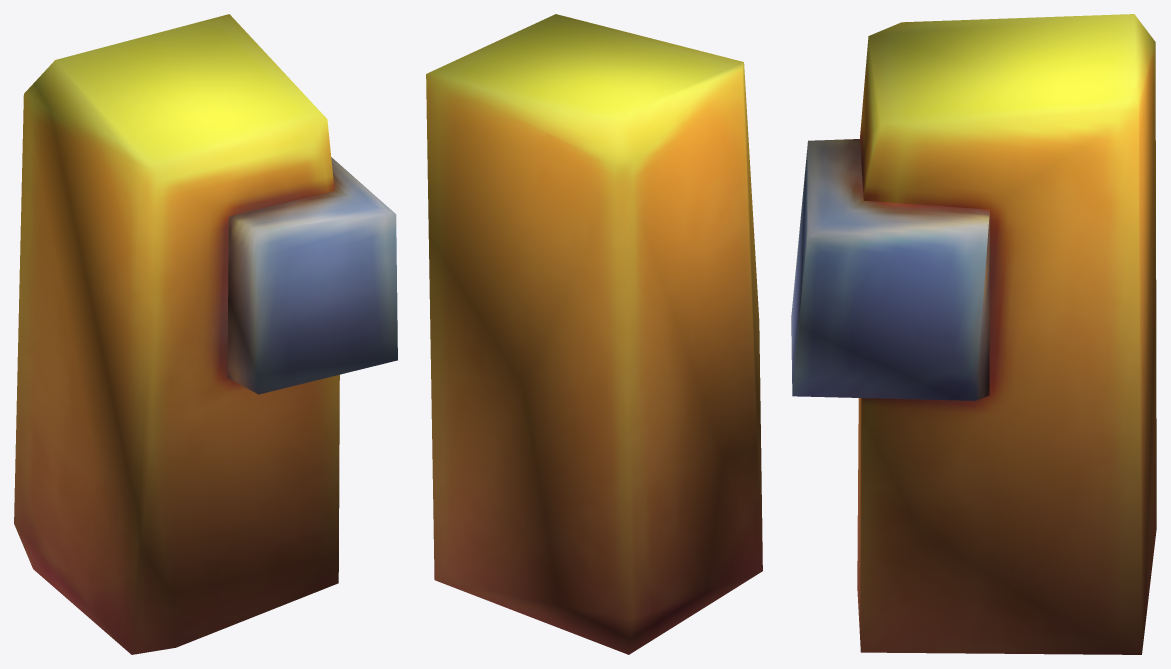
The model's file is SM_Gem_Topaz_Piece_001.fbx.
3 views of the same model, side by side, from view 1: azimuth 30°, elevation 25°; view 2: azimuth 150°, elevation 25°; view 3: azimuth 270°, elevation 25° (orthographic). The views are drawn at different scales.
Visible parts, largest first — view 1: SM_Gem_Topaz_Piece_001; view 2: SM_Gem_Topaz_Piece_001; view 3: SM_Gem_Topaz_Piece_001.
Part boxes in pixels (x1,y1,x2,y2): SM_Gem_Topaz_Piece_001: (14, 14, 397, 654); SM_Gem_Topaz_Piece_001: (426, 14, 762, 654); SM_Gem_Topaz_Piece_001: (791, 14, 1156, 654).
Bounding box in the file's own units: 7.5 × 15.56 × 8.84.
